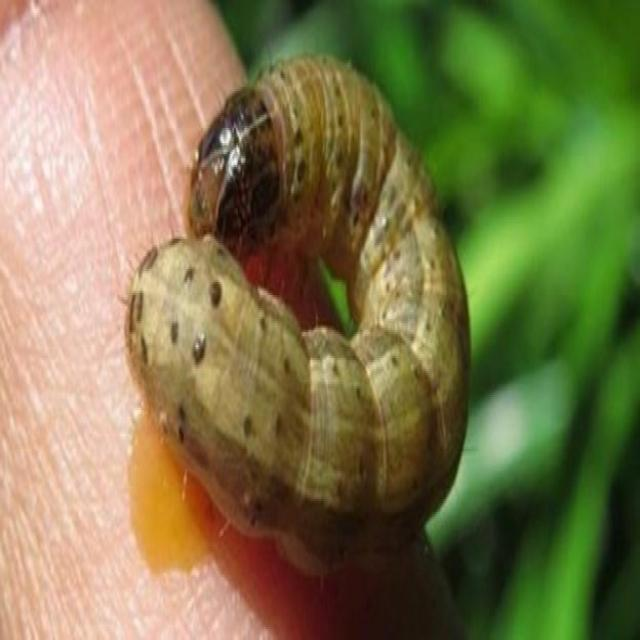armyworm: (121, 48, 473, 595)
